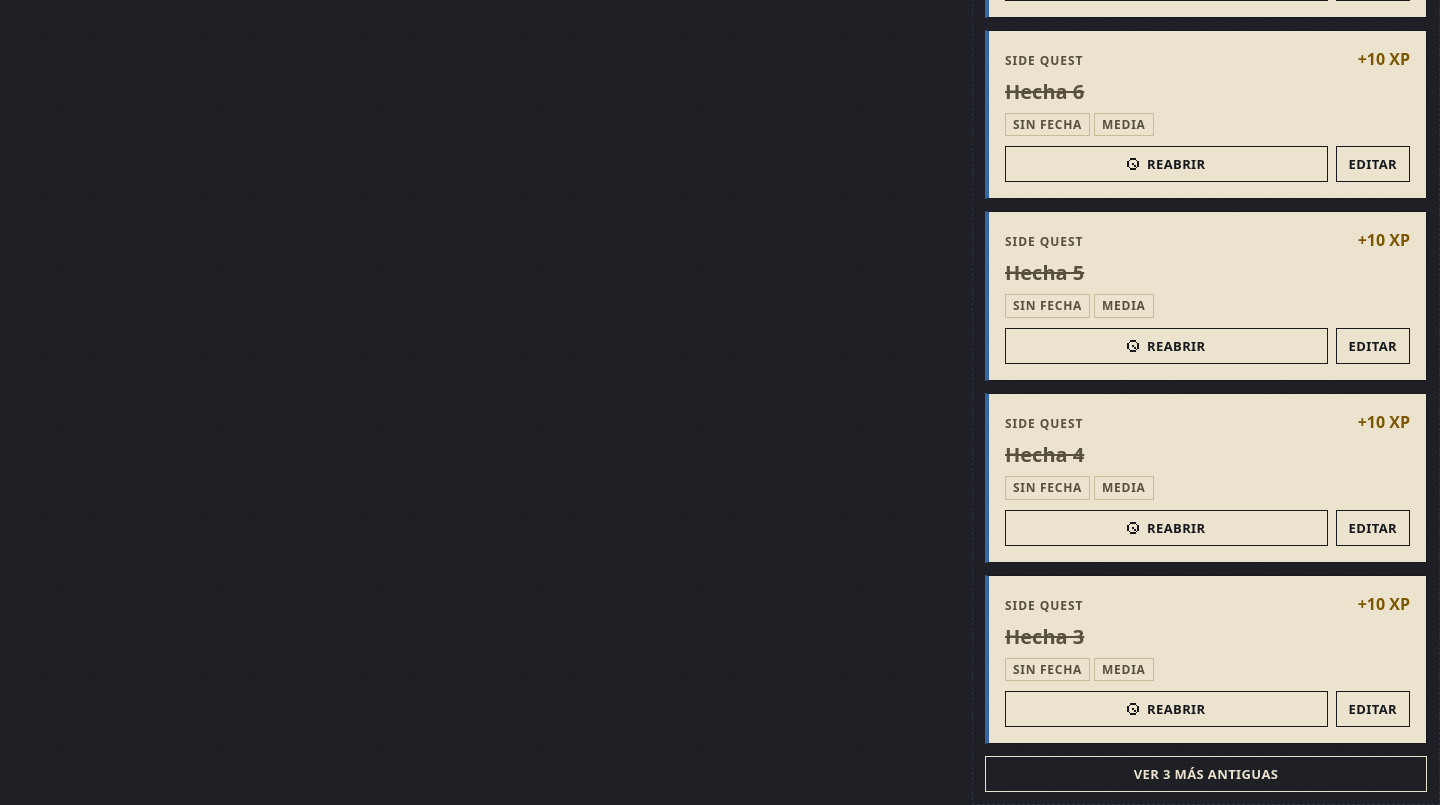
Test: Tareas › la columna Superada enseña las más recientes y el resto tras «Ver más»
(page scrolled)
Expected: the text "Hecha 0" is not shown
Click the button "Ver 3 más antiguas": x=1206, y=774 x1=985 y1=756 x2=1427 y2=792
(page scrolled)
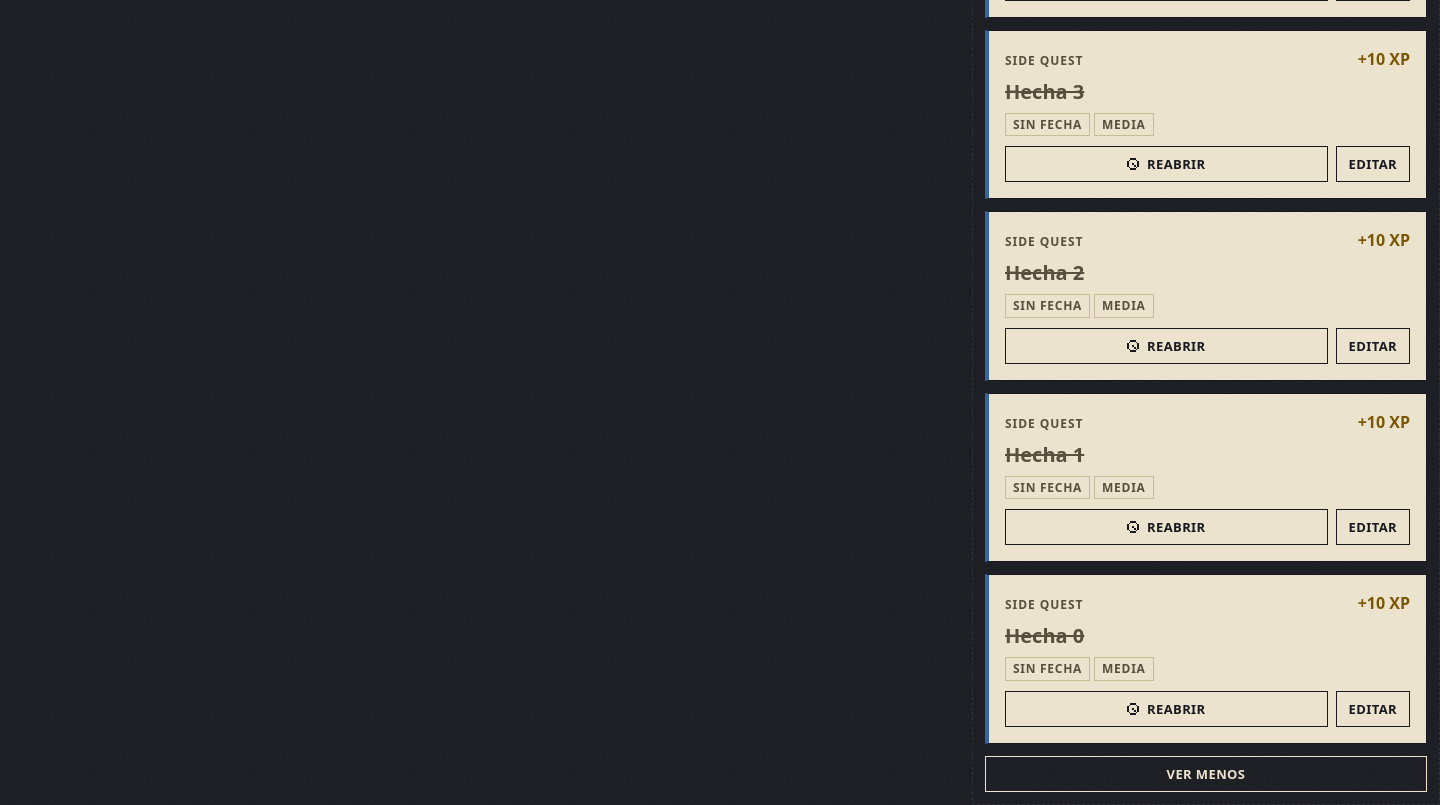
Now the heading "Hecha 0" is shown, box x1=1005 y1=622 x2=1084 y2=650
